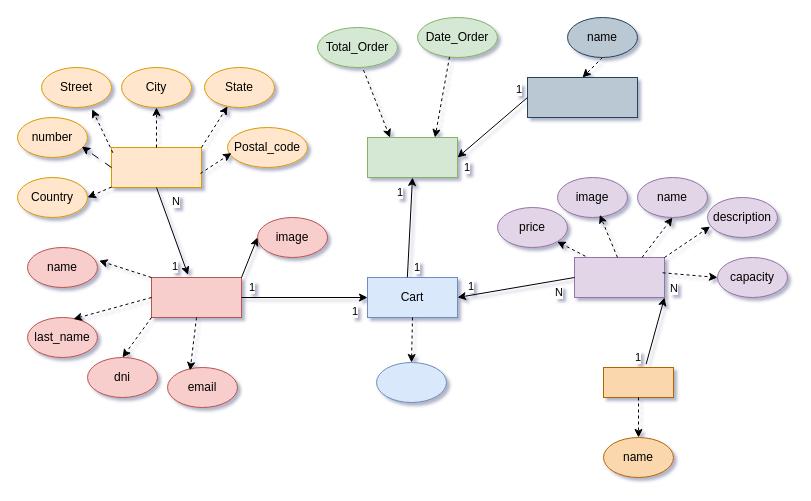
Image size: 811x501. Some labels were removed from this diagram. The centre of each missing label's shape, as x and y in pixels:
Address: (156,167)
Marca: (638,382)
Order: (412,157)
Payment_Methods: (582,97)
Product: (619,277)
Total_Cart: (411,382)
User: (196,297)
